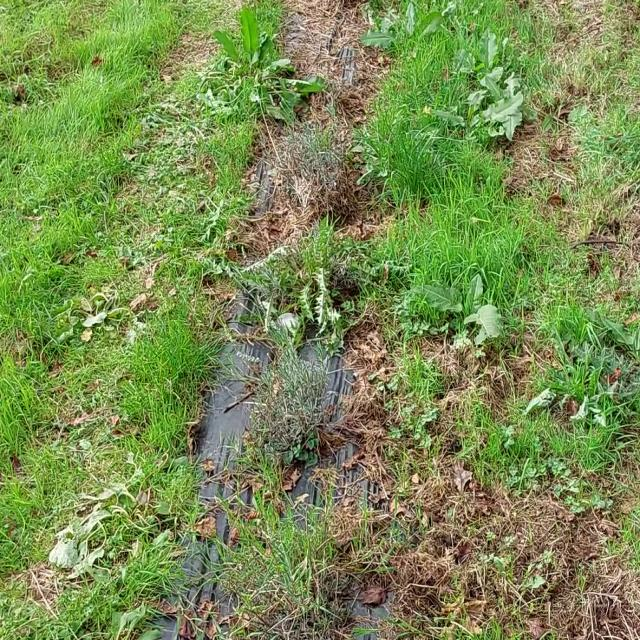organic waste: (206, 15, 333, 130), (399, 85, 531, 175), (50, 480, 153, 582), (438, 21, 547, 100), (409, 270, 500, 352), (356, 0, 455, 69), (54, 292, 140, 360)
